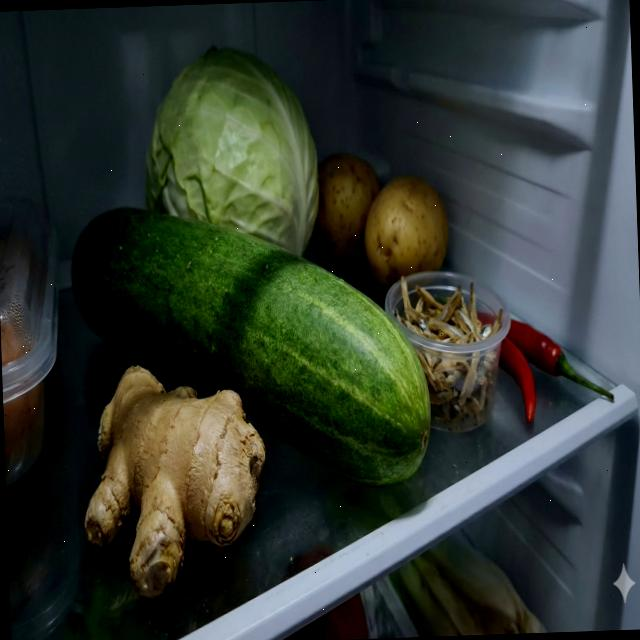anchovies: (389, 271, 506, 428)
cabbage: (139, 41, 320, 264)
chili: (475, 306, 615, 426)
cucumber: (68, 194, 434, 496)
ginger: (78, 358, 270, 604)
potato: (316, 146, 449, 292)
